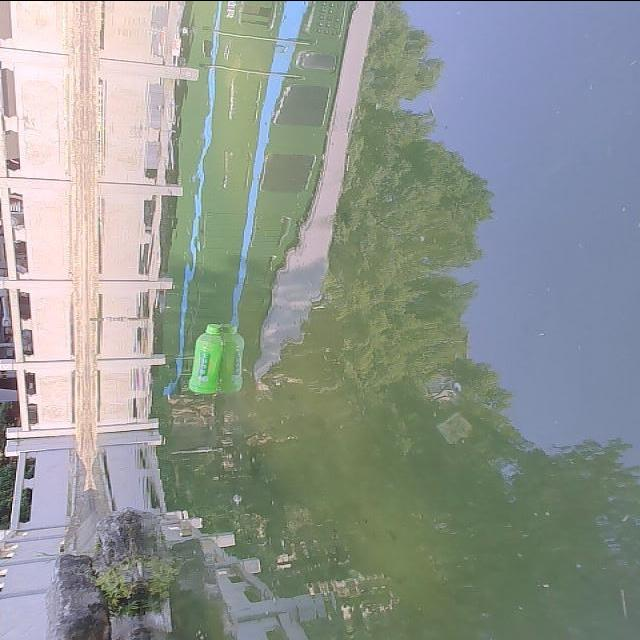Bottle: (183, 316, 231, 400)
